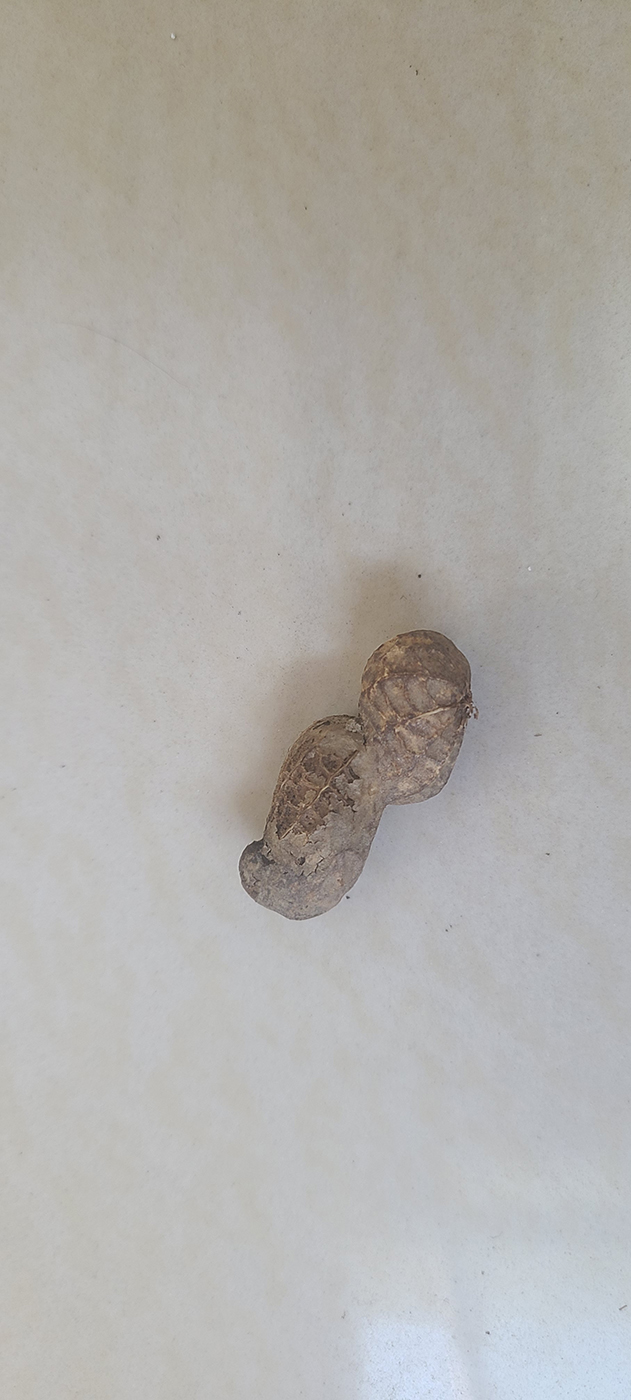l: (233, 630, 477, 921)
